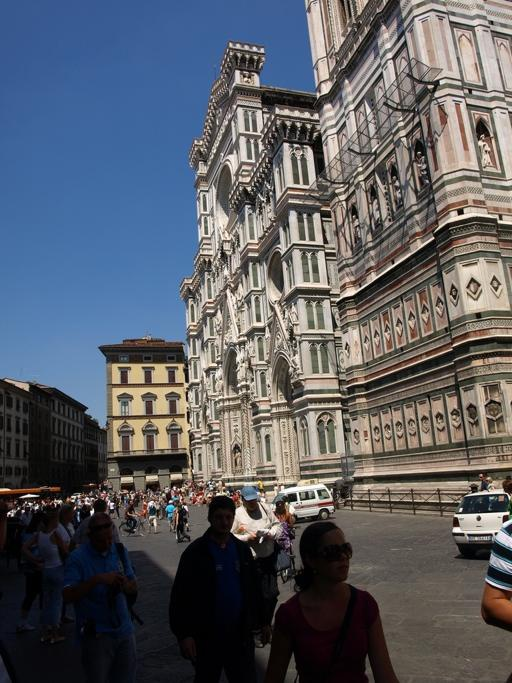non-vehicle: (275, 523, 299, 581), (115, 510, 152, 538)
